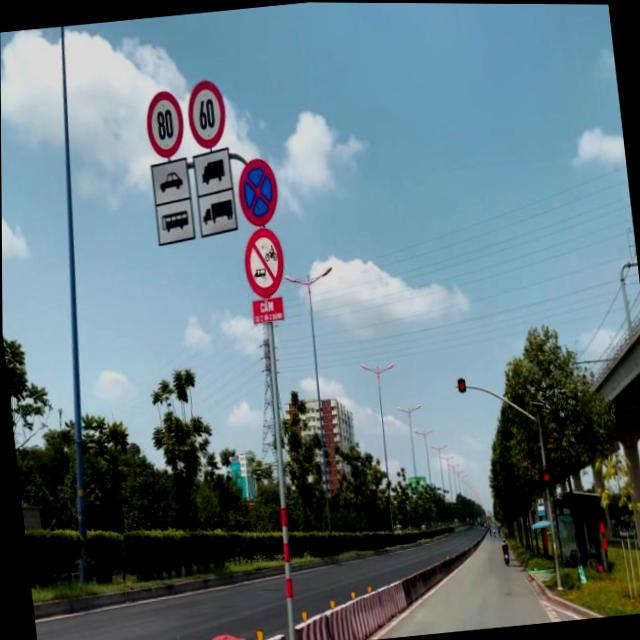Cam dung xe va do xe: (233, 153, 283, 229)
Toc do toi da cho phep: (184, 78, 229, 148), (143, 87, 186, 160)
